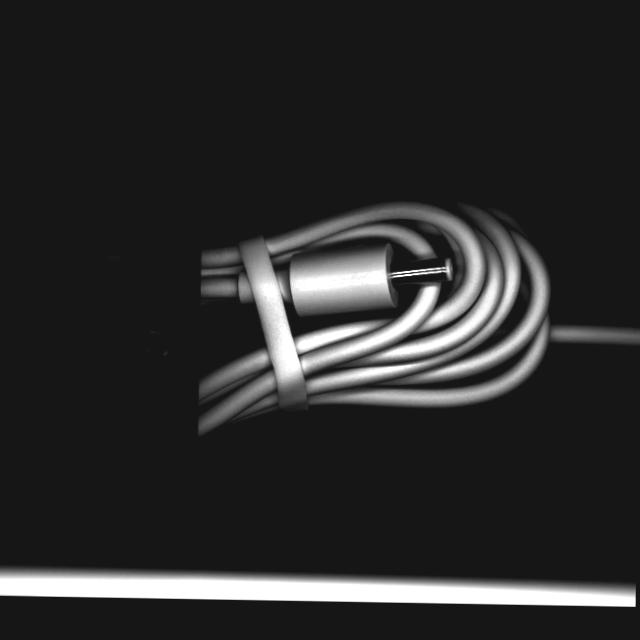Cable: (86, 181, 640, 467)
